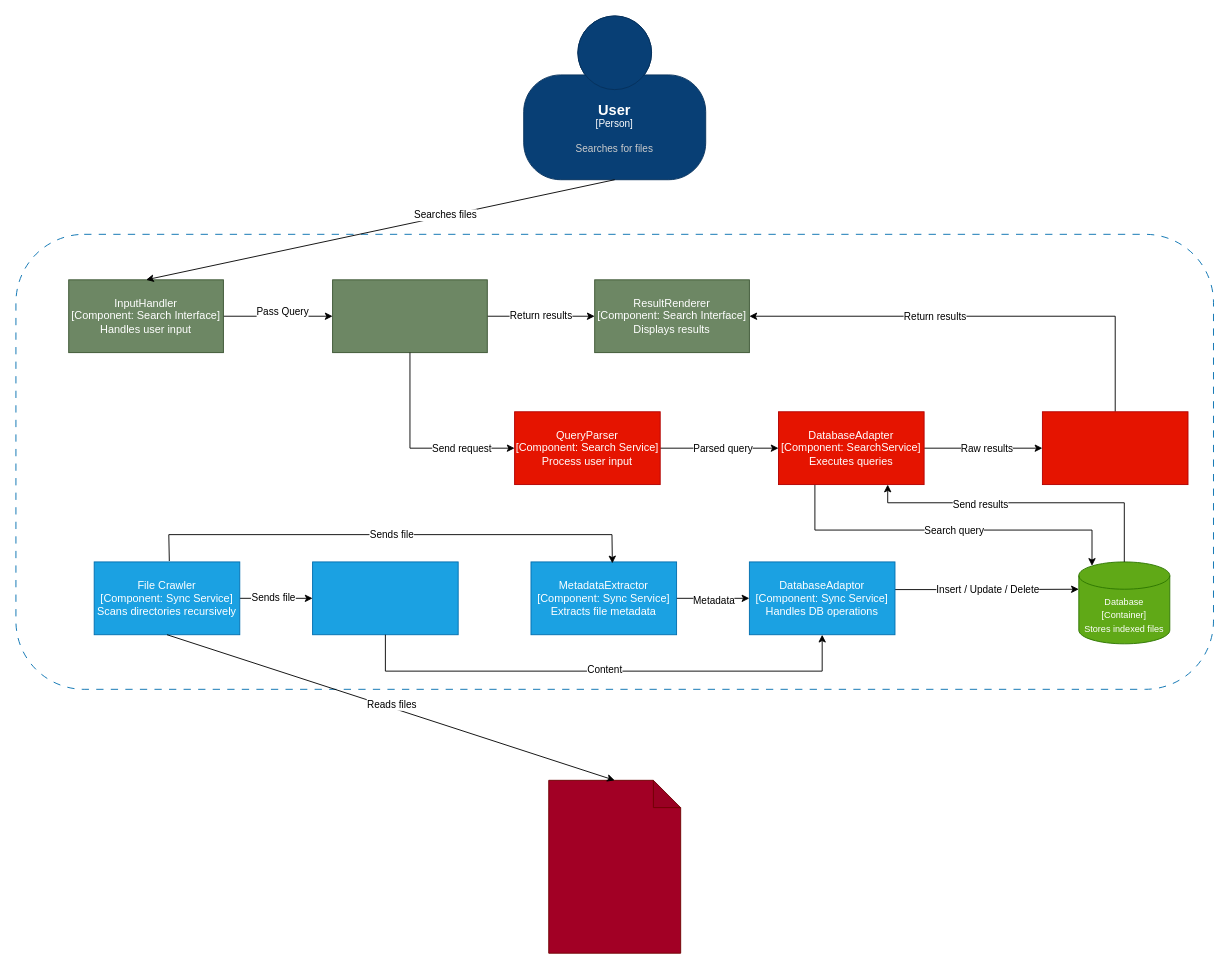
Image size: 1229x969. Some labels were removed from this diagram. The centre of each missing label's shape, as x and y in pixels:
File System [fs] Local Files: pixel 614 866
FileReader [Component: Sync Service] Reads file content: pixel 385 598
ResultFormatter [Compoennt: Search Service] Builds previews: pixel 1114 448
SearchServiceClient [Component: Search Interface] Calls backend: pixel 409 316
